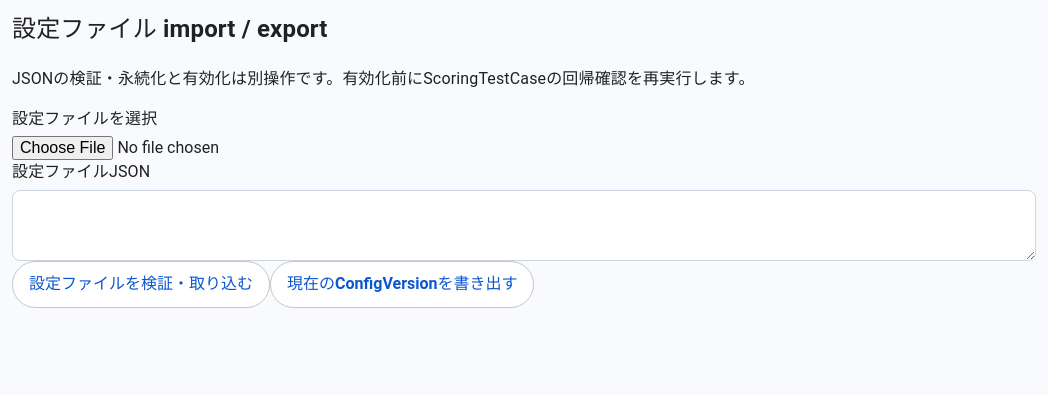
Test case: ConfigFilePanel › exports the currently active immutable ConfigVersion as a data file document
Step 1. Click the button "現在のConfigVersionを書き出す" → x=402, y=284, box top-left (270, 261), bottom-right (534, 308)
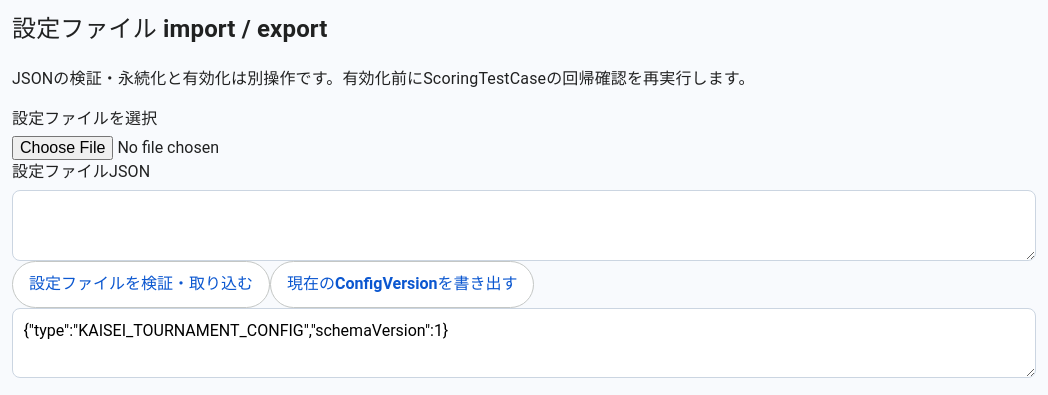
Result: the text box showing "KAISEI_TOURNAMENT_CONFIG" is shown at top-left (12, 308), bottom-right (1036, 378)
